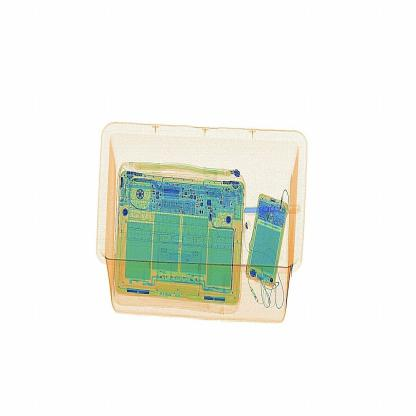pliers: (234, 198, 311, 220)
